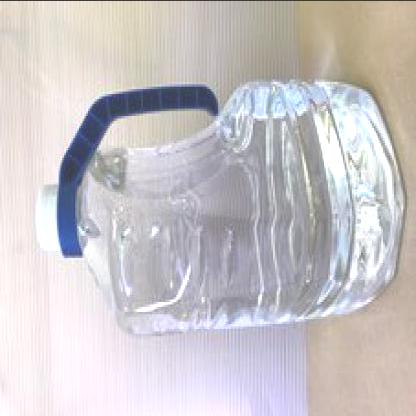bottle: (22, 61, 411, 352)
